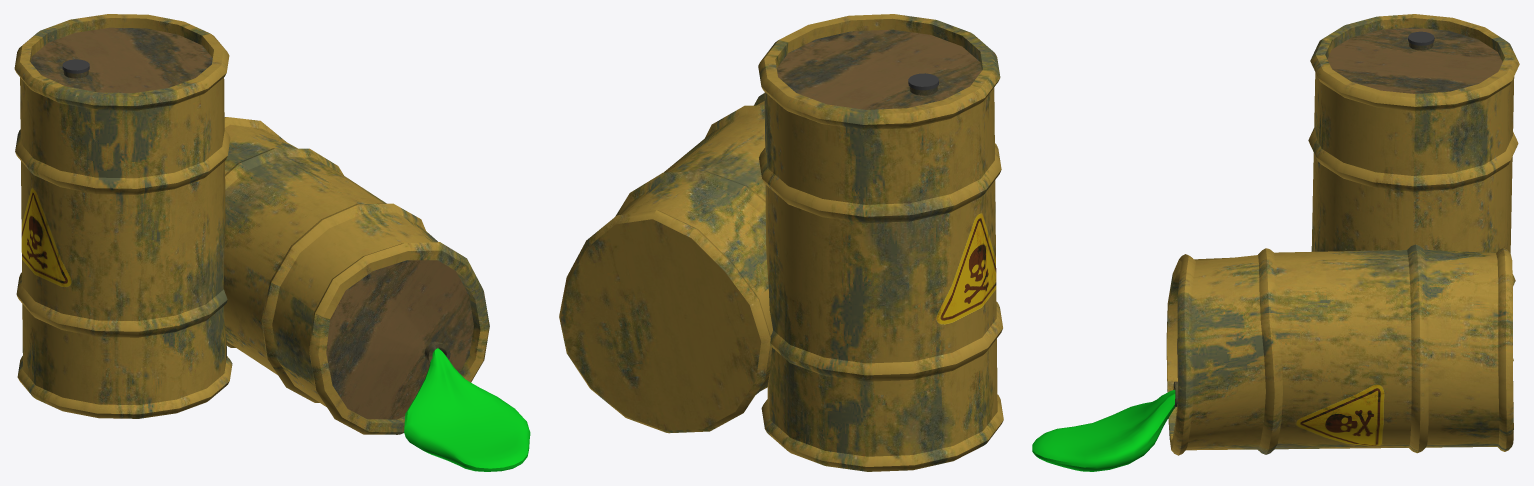
The model's file is SM_Props_ToxicBarrel.fbx.
3 renders of one model, left to right at view 1: azimuth 30°, elevation 25°; view 2: azimuth 150°, elevation 25°; view 3: azimuth 270°, elevation 25°, orthographic. The views are drawn at different scales.
Parts seen in each view (by area): view 1: SM_Props_ToxicBarrel; view 2: SM_Props_ToxicBarrel; view 3: SM_Props_ToxicBarrel.
Part boxes in pixels (bbox=[...]): SM_Props_ToxicBarrel: bbox=[14, 14, 530, 471]; SM_Props_ToxicBarrel: bbox=[559, 14, 1003, 471]; SM_Props_ToxicBarrel: bbox=[1032, 14, 1519, 471].
Size of the model in its own units: 109 by 100 by 139.
